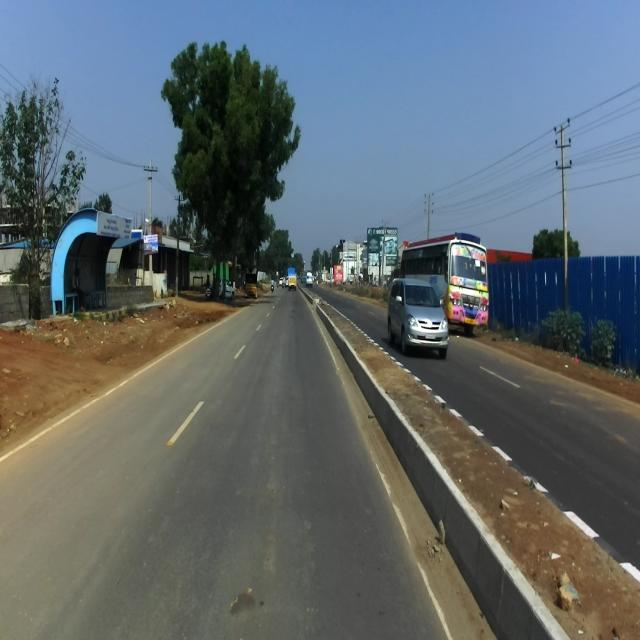Car_Toyota: (387, 278, 449, 359)
bus: (397, 235, 490, 331)
